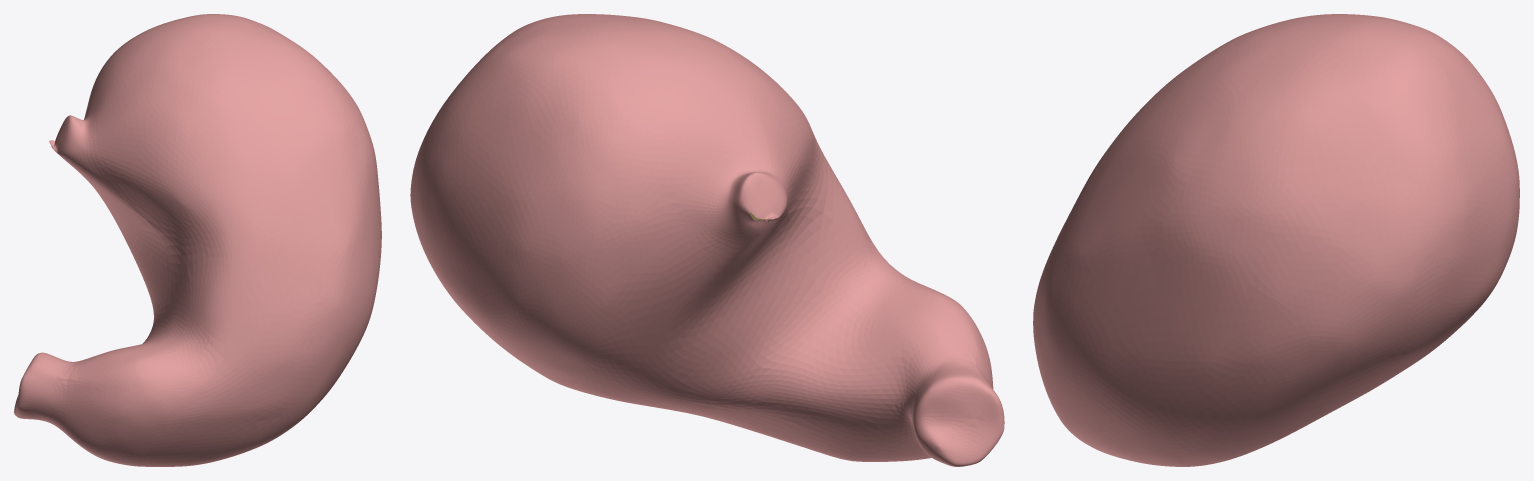
File: stomaco.glb
3 renders of one model, left to right at view 1: azimuth 30°, elevation 25°; view 2: azimuth 150°, elevation 25°; view 3: azimuth 270°, elevation 25°, orthographic. The views are drawn at different scales.
Parts seen in each view (by area): view 1: stomach; view 2: stomach; view 3: stomach.
Part boxes in pixels (x1=…): stomach: x1=14, y1=14, x2=381, y2=466; stomach: x1=410, y1=14, x2=1004, y2=466; stomach: x1=1033, y1=14, x2=1519, y2=466.
Size of the model in its own units: 134 by 116 by 112.
